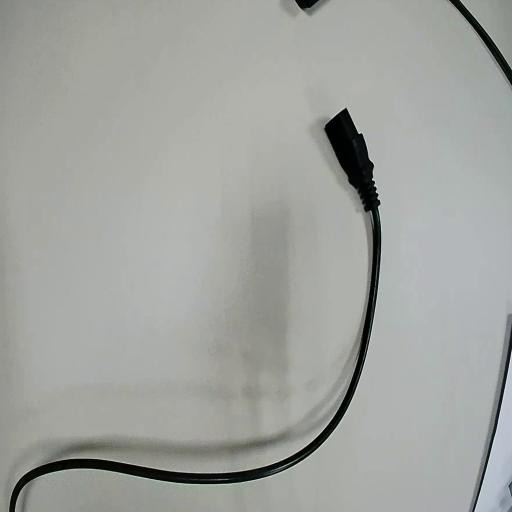wire: (10, 110, 379, 511)
